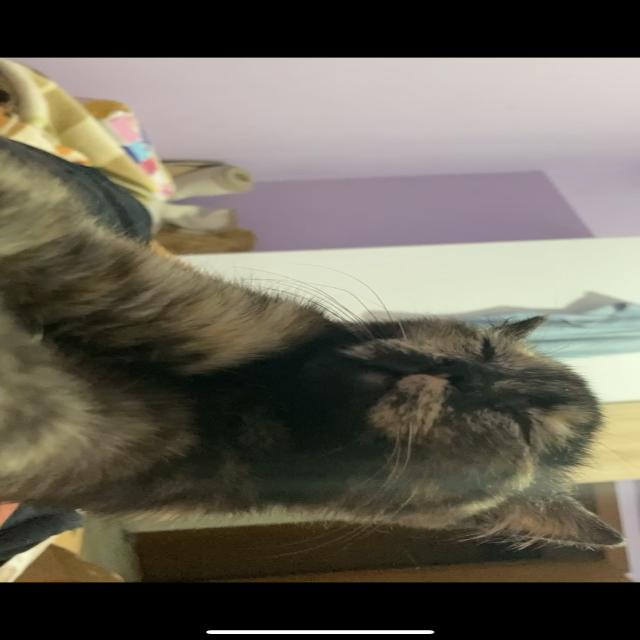authorized: (1, 134, 624, 556)
